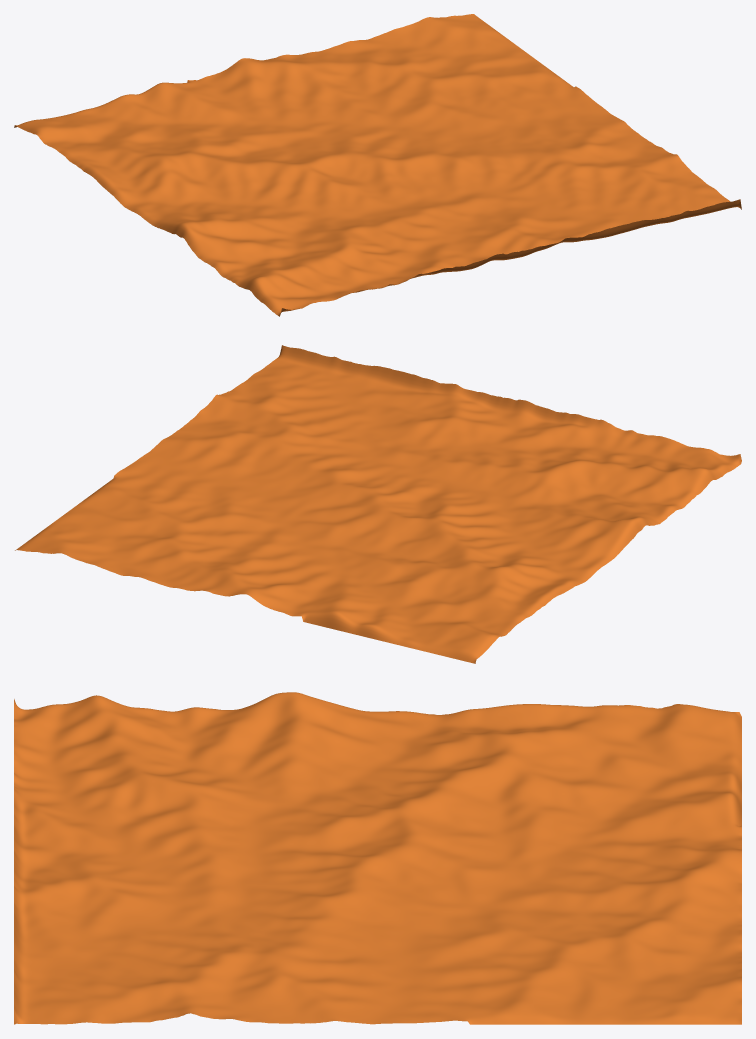
File: gROND.FBX
The picture shows the model from 3 angles, top to bottom: view 1: azimuth 30°, elevation 25°; view 2: azimuth 150°, elevation 25°; view 3: azimuth 270°, elevation 25°; orthographic projection. The views are drawn at different scales.
Parts seen in each view (by area): view 1: Plane030; view 2: Plane030; view 3: Plane030.
Boxes of the visible parts, x1,y1,x2,y2 form: Plane030: (14, 14, 741, 316); Plane030: (15, 345, 741, 663); Plane030: (14, 692, 741, 1024).
Size of the model in its own units: 39370 by 1756 by 39370.
